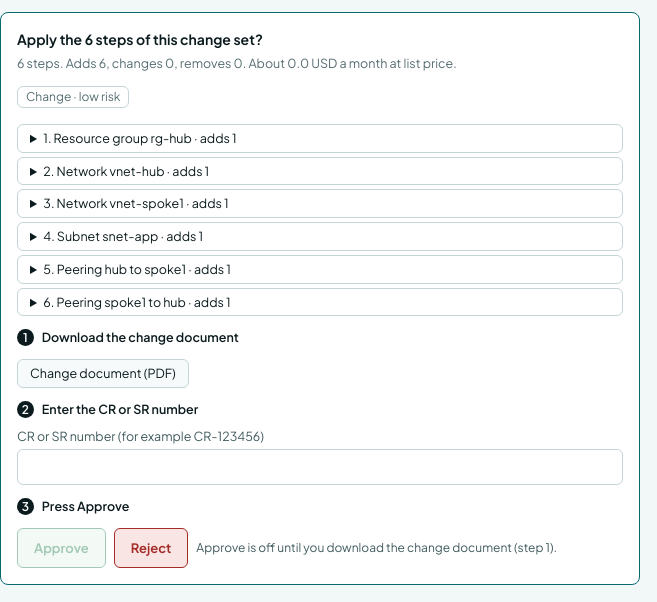
a change set on its card › keeps the three steps for the engineer and Approve off until the document and the number are in
Type "CR-0011" into the field labelled "CR or SR number (for example CR-123456)".
click(320, 467); type("CR-0011")  # box [17,449,623,485]
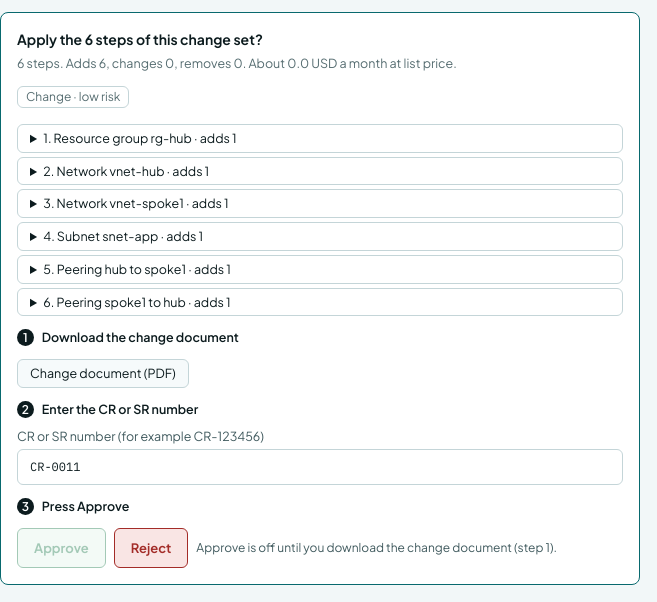
Expected: the button "Approve" is disabled, [17,528,106,568]
Expected: the text "Approve is off until you download the change document (step 1)" is shown, [196,540,557,555]
Click the button "Change document (PDF)".
click(103, 373)  # box [17,359,189,388]
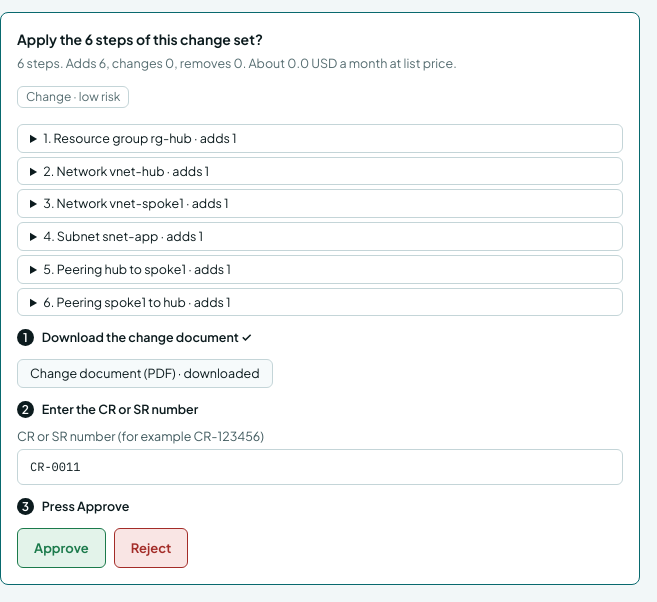
Expected: the button "Approve" is enabled, [17,528,106,568]
